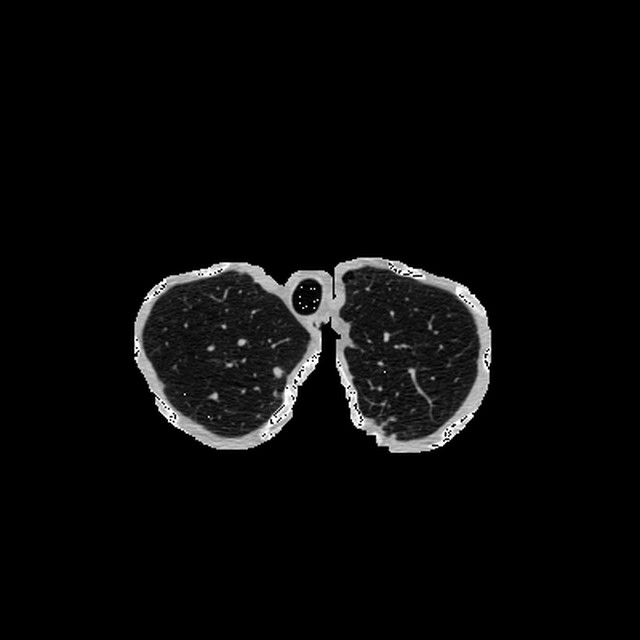PN: (272, 368, 282, 378)
